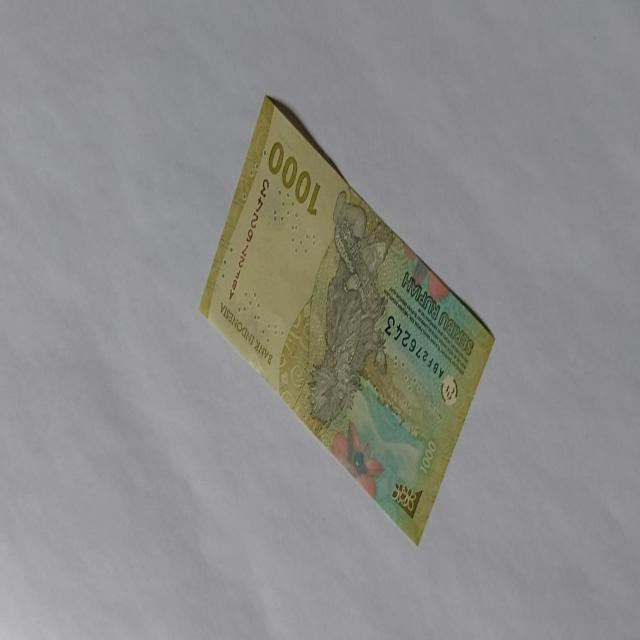seribu rupiah kertas: (198, 93, 496, 547)
